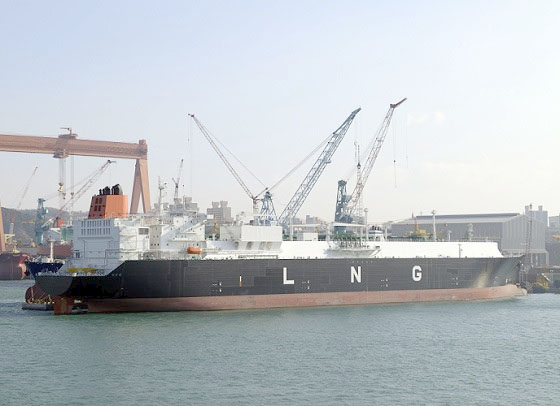LNG_ship: (33, 184, 522, 312)
